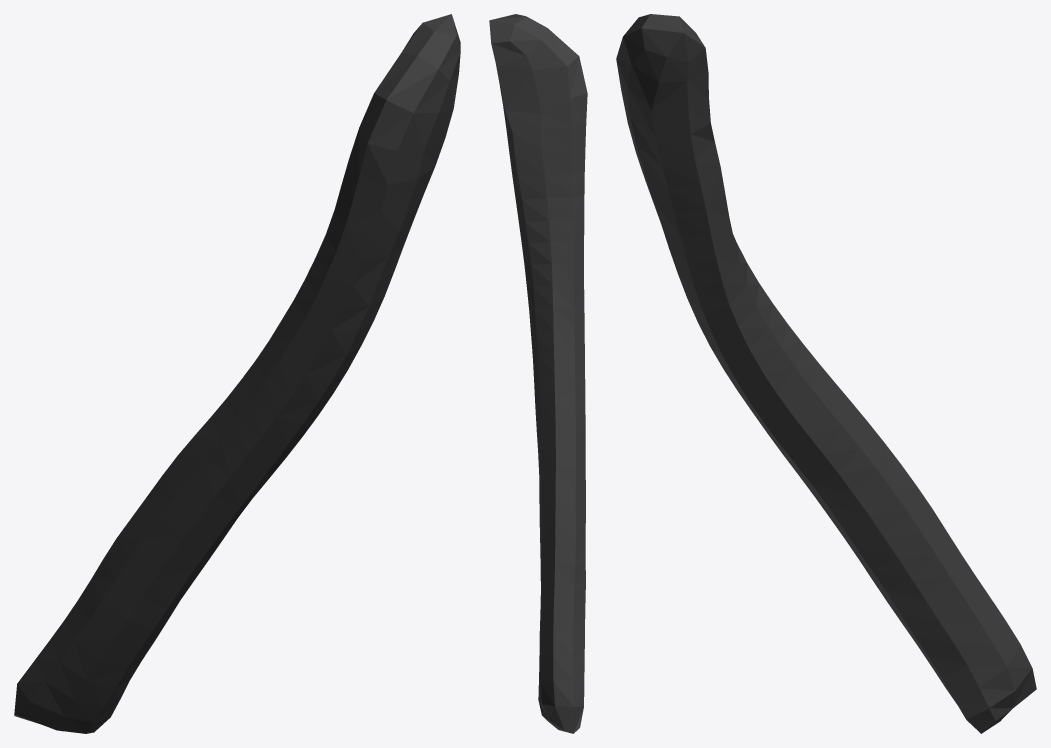
The model's file is Intermediate_pat_lig.glb.
The picture shows the model from 3 angles, left to right: view 1: azimuth 30°, elevation 25°; view 2: azimuth 150°, elevation 25°; view 3: azimuth 270°, elevation 25°; orthographic projection. The views are drawn at different scales.
Visible parts, largest first — view 1: Intermediate_pat_lig; view 2: Intermediate_pat_lig; view 3: Intermediate_pat_lig.
Boxes of the visible parts, left/top/right/bottom form: Intermediate_pat_lig: left=14, top=14, right=460, bottom=733; Intermediate_pat_lig: left=489, top=14, right=587, bottom=733; Intermediate_pat_lig: left=616, top=14, right=1036, bottom=733.
Bounding box in the file's own units: 0.6675 × 1.76 × 0.8232.
Materials: 1 (1 with a texture image).
